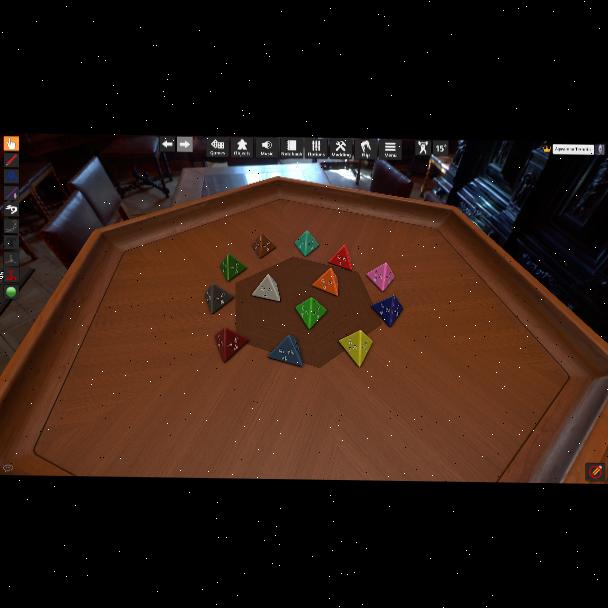d4: (268, 335, 304, 368), (338, 331, 370, 367), (216, 328, 248, 363), (294, 297, 324, 330), (370, 294, 400, 327), (206, 283, 235, 315), (366, 262, 392, 293), (252, 274, 280, 302), (312, 267, 338, 297), (220, 254, 246, 283), (294, 231, 318, 258), (328, 245, 352, 271), (253, 232, 276, 258)
